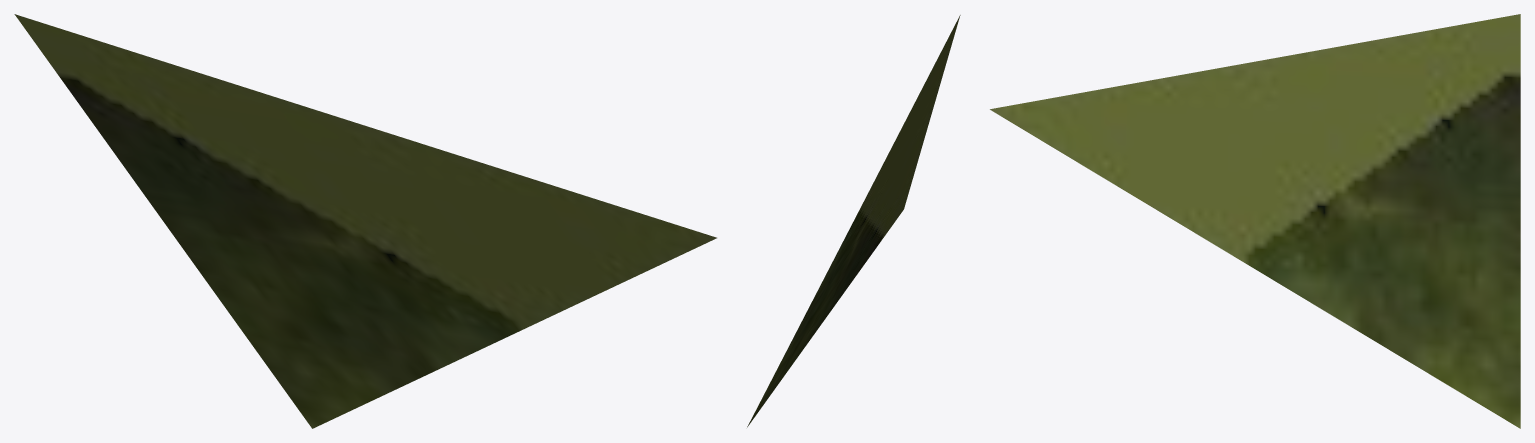
The picture shows the model from 3 angles, left to right: view 1: azimuth 30°, elevation 25°; view 2: azimuth 150°, elevation 25°; view 3: azimuth 270°, elevation 25°; orthographic projection. The views are drawn at different scales.
Bounding box in the file's own units: 0.385 × 0.6019 × 0.9066.
Materials: 1 (1 with a texture image).
